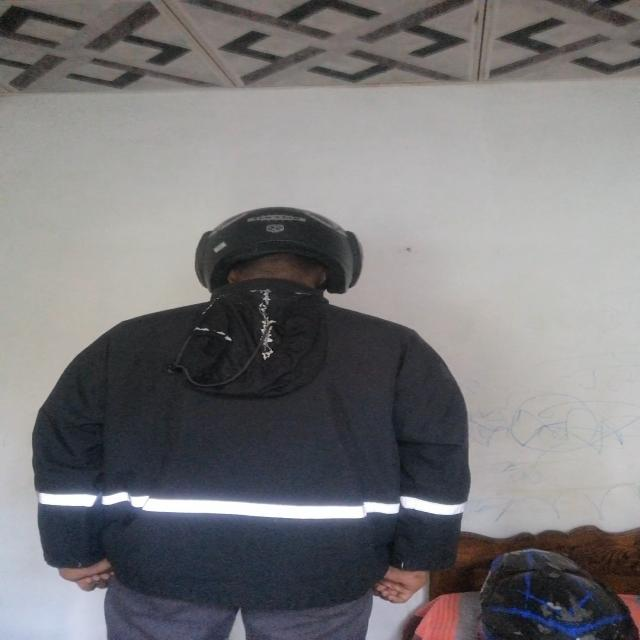Helmet_Wearer: (157, 199, 362, 330)
Jacket_Wearer: (16, 288, 486, 598)
Person: (18, 196, 471, 633)
